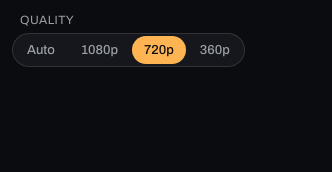
QualitySelector checked segment = the user's PIN (d3-aq2) › checks Auto the moment Auto is clicked, and keeps naming the level ABR settled on
Click the radio button labelled "Auto" at [41, 50], box [15, 36, 67, 64]
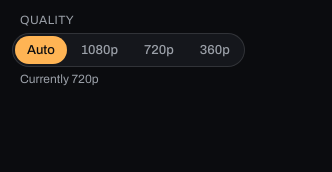
expect the text "Currently 720p" is shown: met, box [20, 72, 99, 86]
